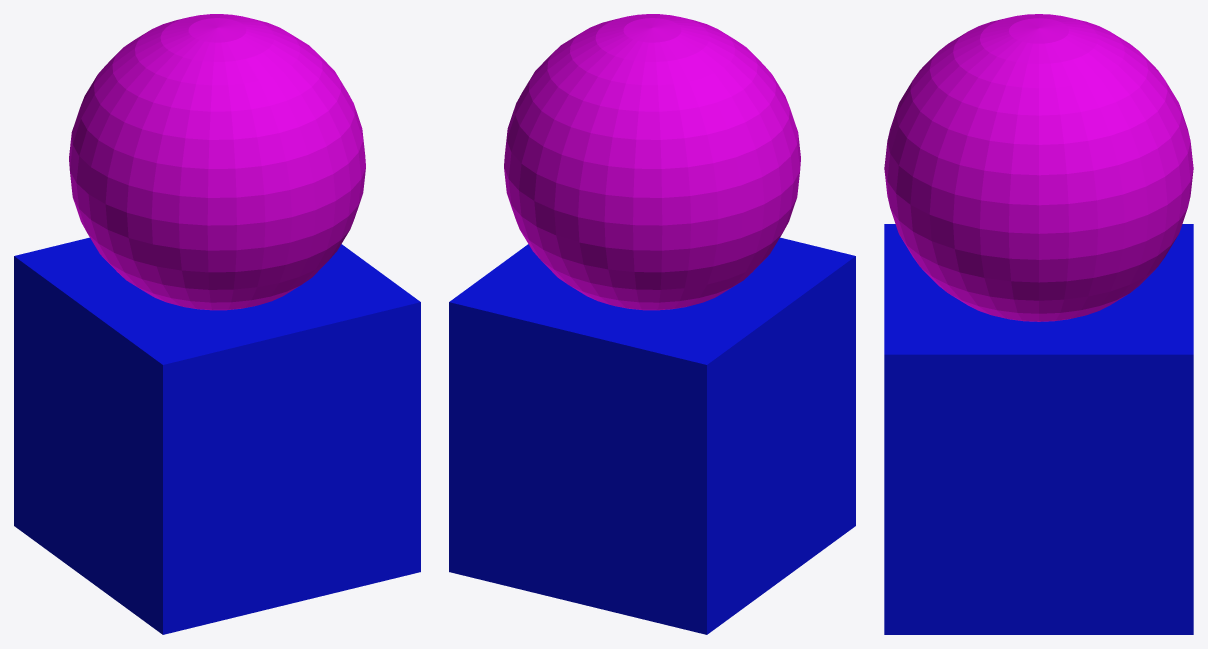
Rendered from teste.glb.
3 renders of one model, left to right at view 1: azimuth 30°, elevation 25°; view 2: azimuth 150°, elevation 25°; view 3: azimuth 270°, elevation 25°, orthographic. The views are drawn at different scales.
Visible parts, largest first — view 1: Cube, Sphere; view 2: Cube, Sphere; view 3: Cube, Sphere.
Boxes of the visible parts, x1,y1,x2,y2 form: Cube: (14,237,420,634); Sphere: (69,14,365,310); Cube: (449,237,855,634); Sphere: (504,14,800,310); Cube: (884,224,1193,634); Sphere: (884,14,1193,321).
Bounding box in the file's own units: 2 × 3.86 × 2.
